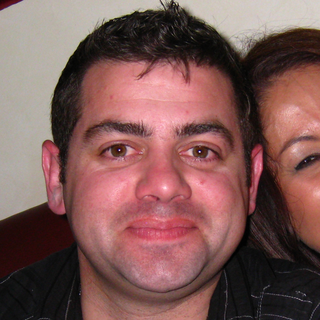eye: (172, 134, 225, 175), (87, 134, 145, 167), (281, 147, 320, 175)
